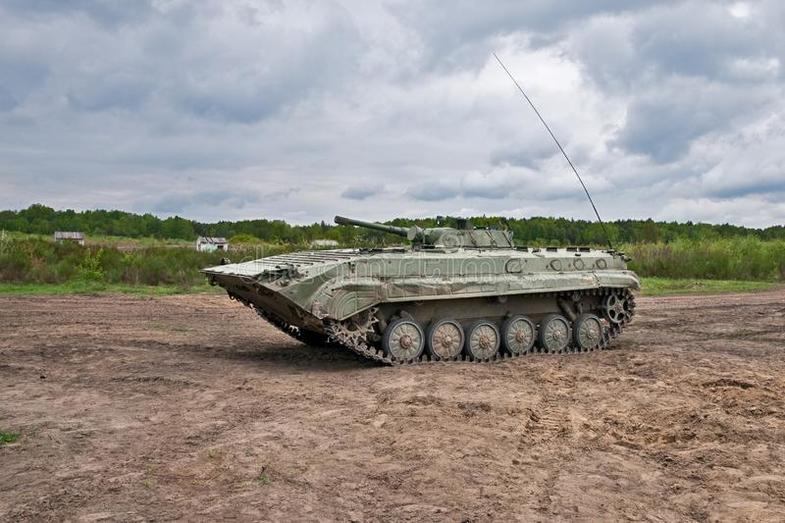bmp: (200, 220, 635, 357)
